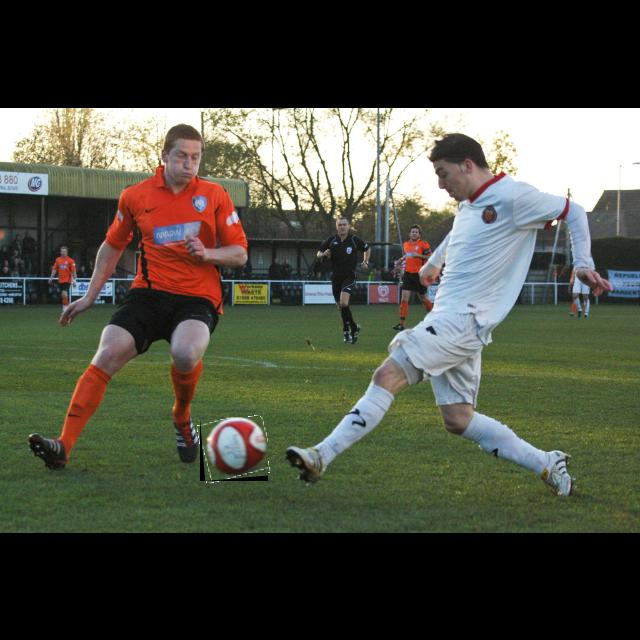Football: (200, 417, 268, 481)
